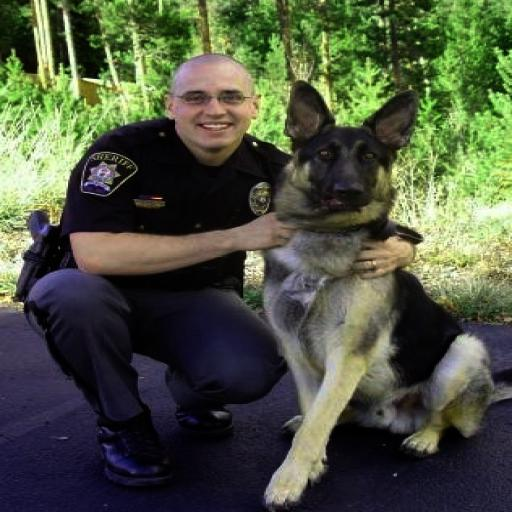dog_face: (278, 77, 420, 214)
